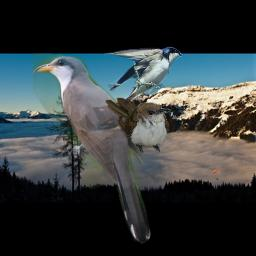Cuckoo: (33, 53, 155, 245), (105, 97, 171, 156)
Swallow: (104, 46, 183, 106)
